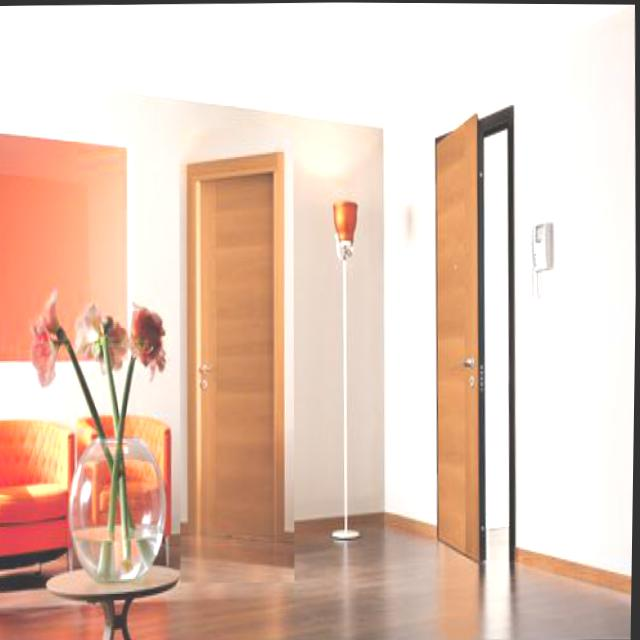close: (174, 126, 302, 584)
semi-open: (414, 101, 533, 586)
